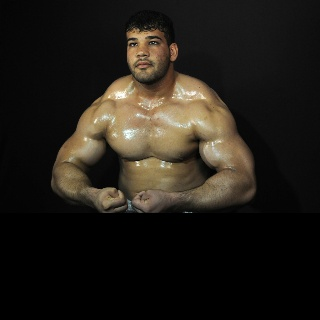without_mask: (127, 22, 170, 83)
